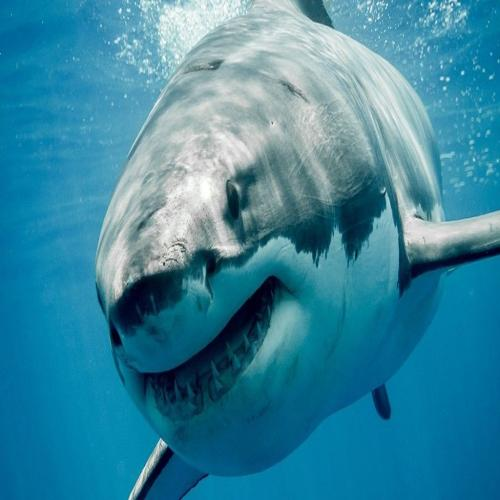shark-endangered: (95, 9, 435, 480)
